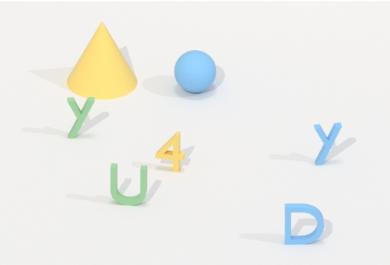0-TamGiac: (65, 18, 141, 101)
0-Tron: (171, 47, 220, 98)
4: (152, 127, 189, 176)
D: (280, 197, 329, 249)
U: (108, 159, 150, 210)
y: (310, 119, 345, 168), (64, 94, 96, 144)
